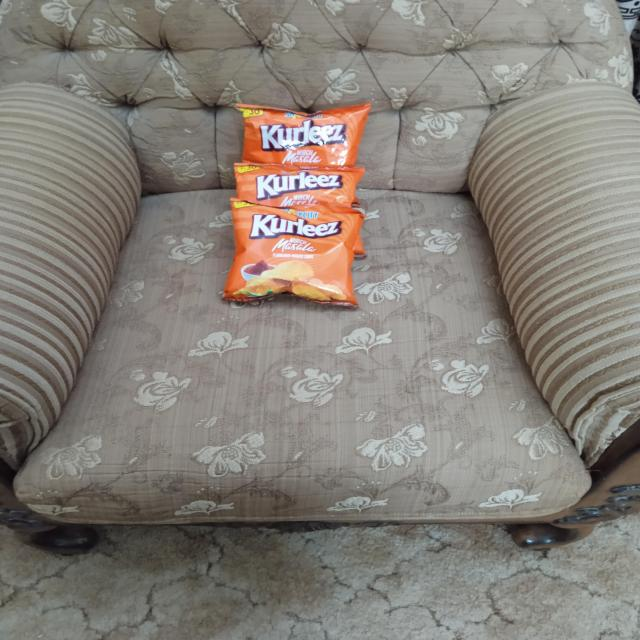Plastic: (234, 203, 355, 305), (238, 103, 363, 163), (236, 163, 365, 202)
